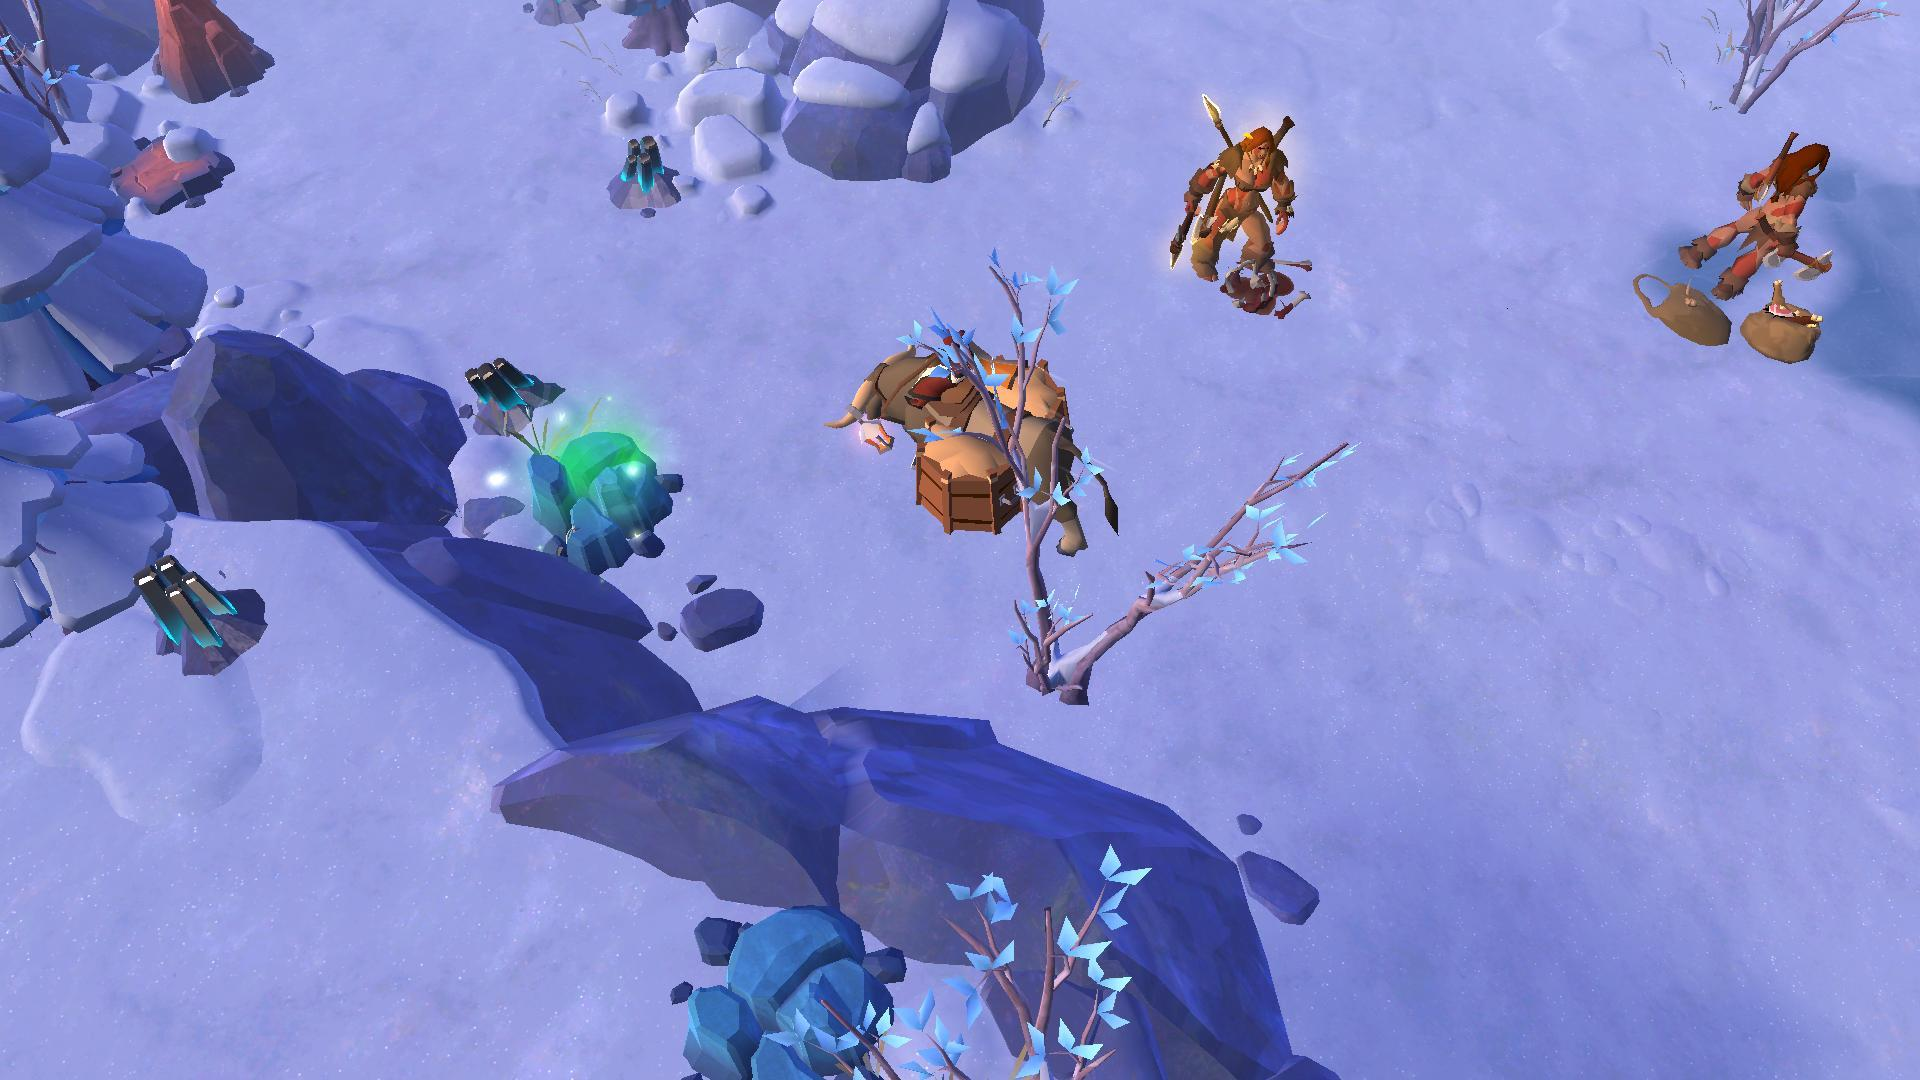enemy_factionKeeper: (1680, 127, 1845, 306), (1164, 108, 1320, 291)
ore_t4: (131, 547, 240, 653), (458, 343, 539, 409), (620, 124, 669, 196)
rock_t5: (150, 0, 269, 104)
